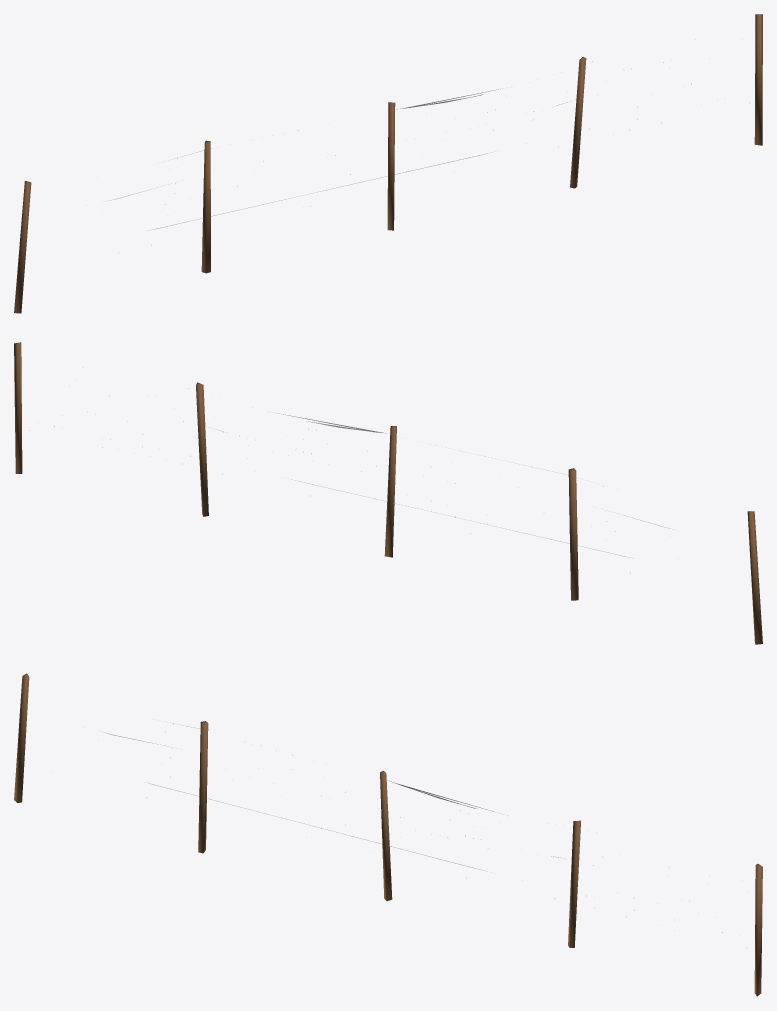
Rendered from Alamabre.fbx.
3 views of the same model, one above another, from view 1: azimuth 30°, elevation 25°; view 2: azimuth 150°, elevation 25°; view 3: azimuth 330°, elevation 25° (orthographic).
Visible parts, largest first — view 1: Poste_5; view 2: Poste_5; view 3: Poste_5.
Boxes of the visible parts, x1,y1,x2,y2 form: Poste_5: (14, 14, 762, 313); Poste_5: (14, 342, 762, 644); Poste_5: (14, 673, 762, 996).
Size of the model in its own units: 1216 by 218 by 23.43.
